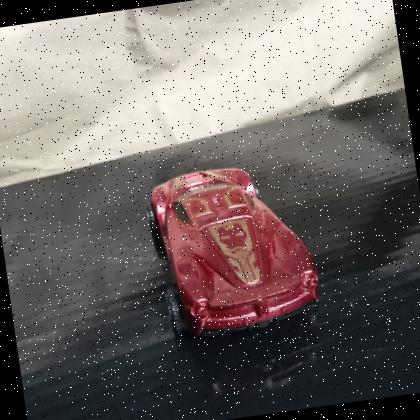Car: (135, 150, 334, 358)
